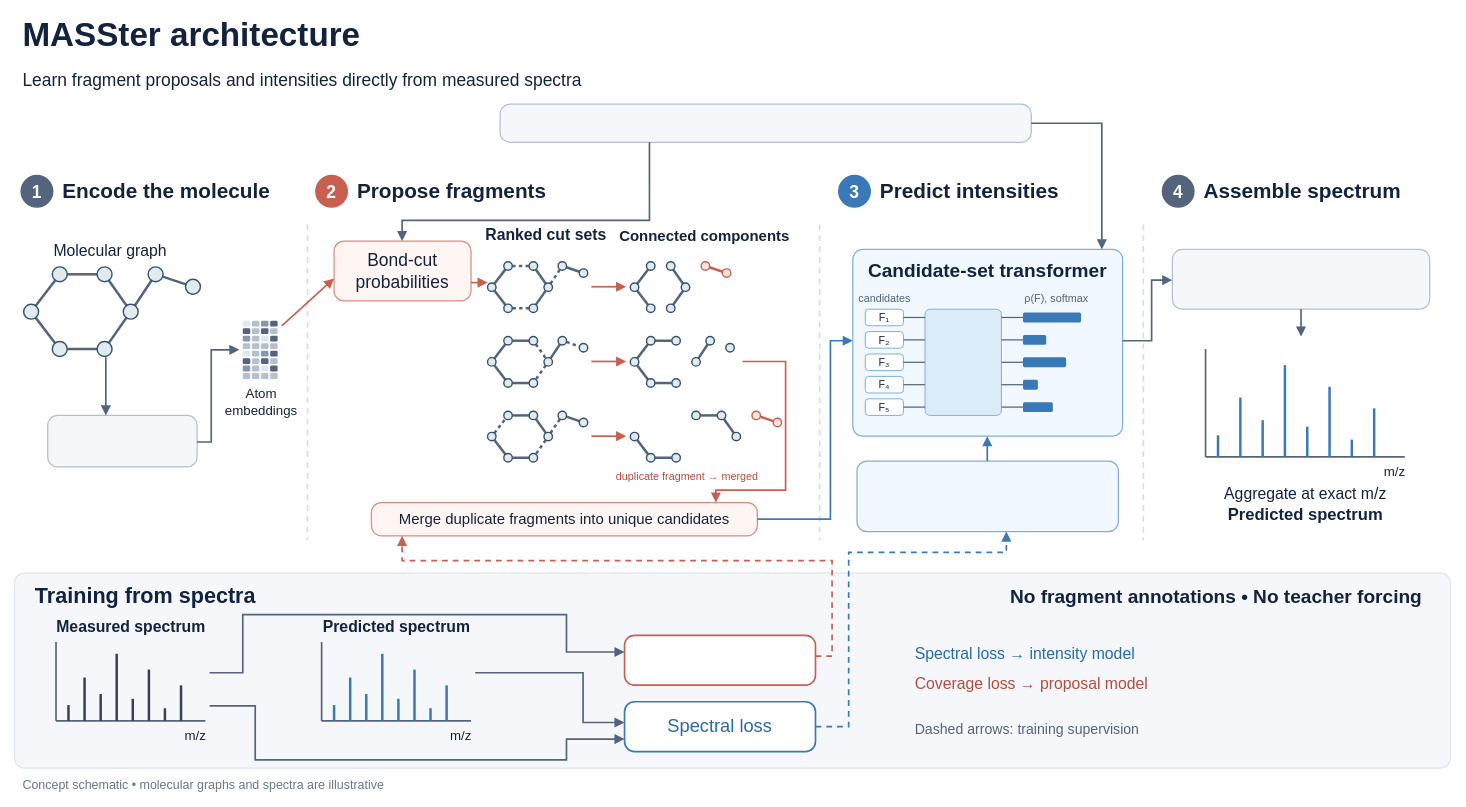
Image size: 1466x807. Some labels were removed from this diagram. Each missing label, with the centre of its shape:
"Candidate representation Fragment + complement + cut boundary" belongs at point (987, 496).
"Collision energy • Adduct • Instrument" belongs at point (765, 123).
"Ion channels Charge / hydrogen shifts" belongs at point (1300, 278).
"Molecular encoder" belongs at point (122, 440).
"Proposal coverage loss" belongs at point (719, 660).
"Self- attention over all candidates" belongs at point (962, 361).
